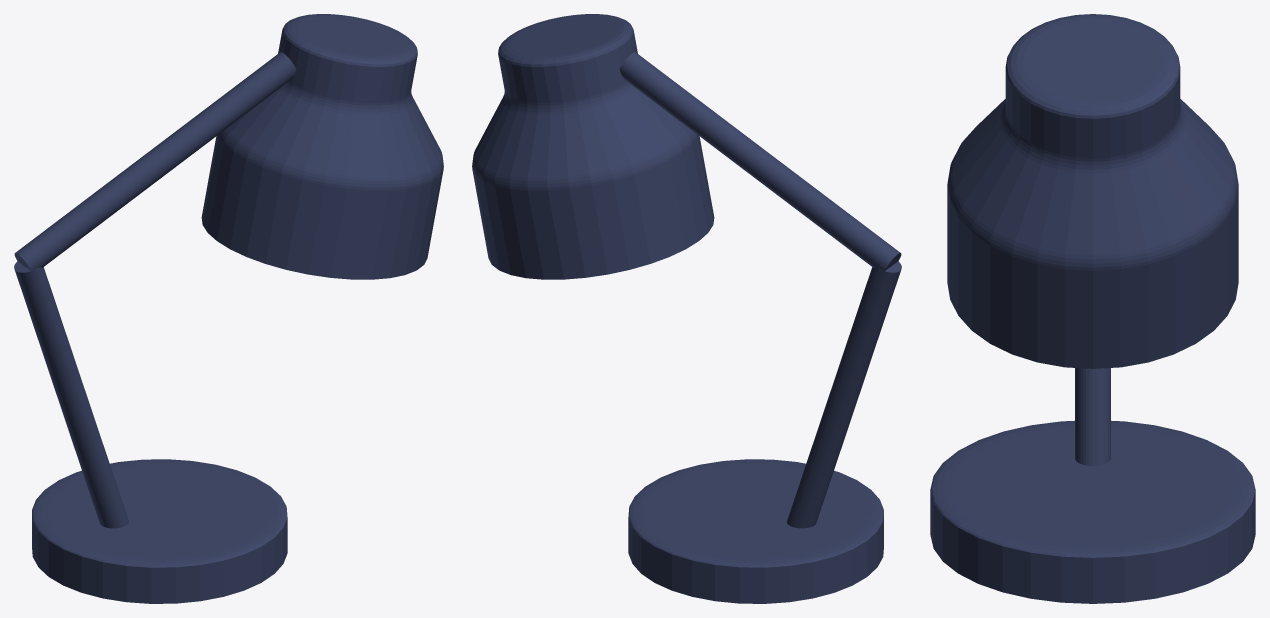
File: lamp.glb
3 views of the same model, side by side, from view 1: azimuth 30°, elevation 25°; view 2: azimuth 150°, elevation 25°; view 3: azimuth 270°, elevation 25° (orthographic). The views are drawn at different scales.
Parts seen in each view (by area): view 1: lamp, base, arm.001, arm; view 2: lamp, base, arm.001, arm; view 3: lamp, base, arm.
Part boxes in pixels (x1,y1,x2,y2): lamp: (201,14,443,279); base: (32,459,287,603); arm.001: (14,52,296,271); arm: (14,261,128,528); lamp: (472,14,714,279); base: (628,459,883,603); arm.001: (619,52,901,271); arm: (787,261,901,528); lamp: (947,14,1238,368); base: (930,420,1255,603); arm: (1075,368,1110,465).
Size of the model in its own units: 0.4249 by 0.4701 by 0.2286.
